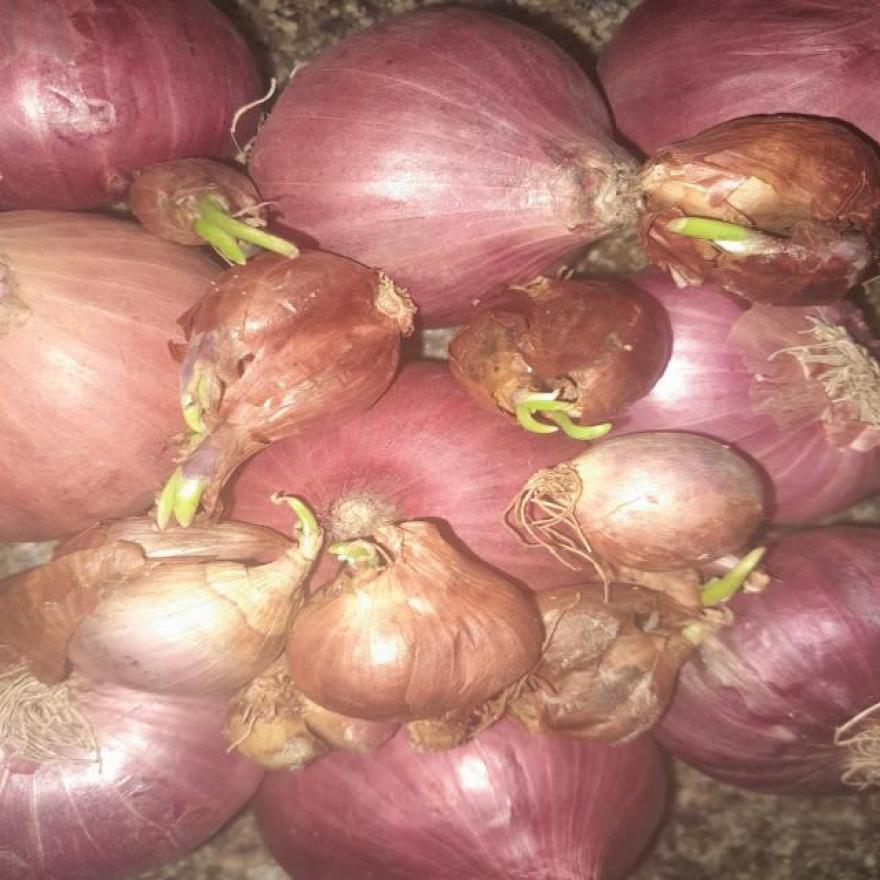Sprouted: (171, 190, 314, 280), (497, 387, 648, 457), (157, 428, 249, 534), (660, 206, 788, 256), (716, 518, 768, 626)
